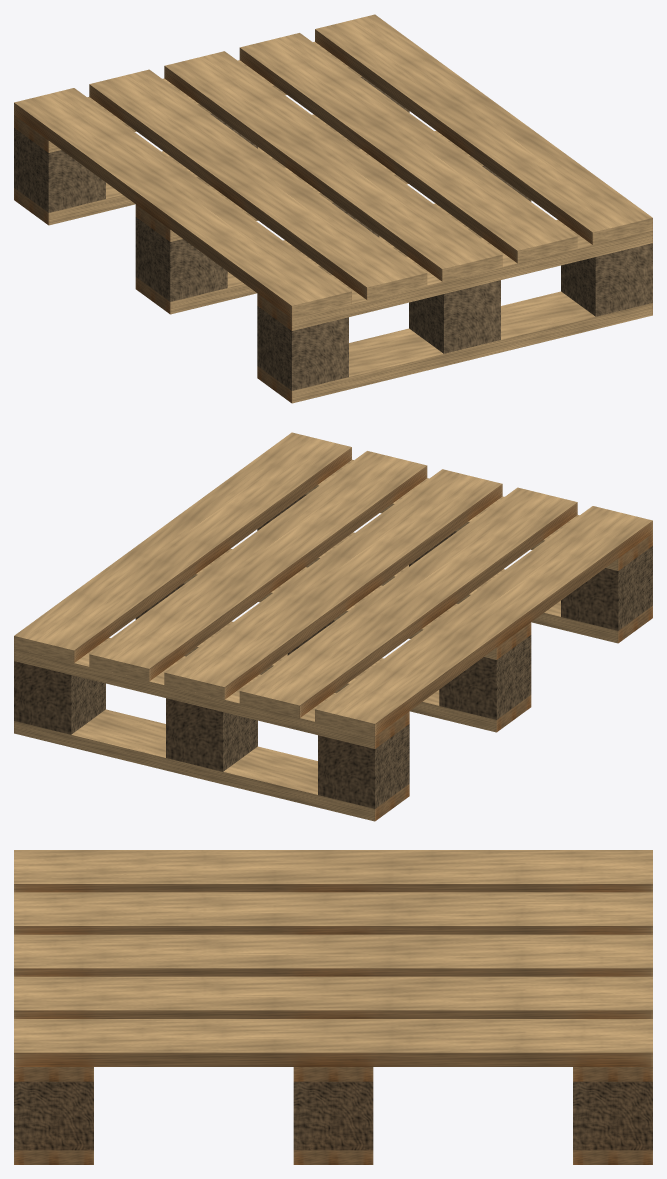
The model's file is Pallet.fbx.
The picture shows the model from 3 angles, top to bottom: view 1: azimuth 30°, elevation 25°; view 2: azimuth 150°, elevation 25°; view 3: azimuth 270°, elevation 25°; orthographic projection. The views are drawn at different scales.
Parts seen in each view (by area): view 1: Palette.00, Palette.03, Palette.02, Palette.01, Palette.04, Palette.19, Palette.07, Palette.16, Palette.14, Palette.15, Palette.13, Palette.10 (+4 smaller); view 2: Palette.00, Palette.03, Palette.02, Palette.01, Palette.04, Palette.17, Palette.05, Palette.10, Palette.08, Palette.09, Palette.13, Palette.16 (+4 smaller); view 3: Palette.04, Palette.01, Palette.00, Palette.02, Palette.03, Palette.11, Palette.14, Palette.08, Palette.06, Palette.18, Palette.07, Palette.05 (+2 smaller).
Boxes of the visible parts, bbox=[...] form: Palette.00: bbox=[164, 51, 502, 281]; Palette.03: bbox=[239, 33, 577, 263]; Palette.02: bbox=[89, 69, 427, 299]; Palette.01: bbox=[14, 88, 351, 318]; Palette.04: bbox=[315, 14, 652, 244]; Palette.19: bbox=[257, 291, 652, 403]; Palette.07: bbox=[257, 220, 652, 330]; Palette.16: bbox=[257, 306, 348, 390]; Palette.14: bbox=[561, 243, 652, 316]; Palette.15: bbox=[409, 280, 500, 353]; Palette.13: bbox=[135, 217, 227, 301]; Palette.10: bbox=[14, 128, 105, 212]; Palette.00: bbox=[164, 469, 502, 699]; Palette.03: bbox=[89, 451, 427, 681]; Palette.02: bbox=[239, 487, 577, 717]; Palette.01: bbox=[315, 506, 652, 736]; Palette.04: bbox=[14, 432, 351, 662]; Palette.17: bbox=[14, 709, 409, 821]; Palette.05: bbox=[14, 638, 409, 748]; Palette.10: bbox=[318, 724, 409, 808]; Palette.08: bbox=[14, 661, 105, 734]; Palette.09: bbox=[166, 698, 257, 771]; Palette.13: bbox=[439, 635, 531, 719]; Palette.16: bbox=[561, 546, 652, 630]; Palette.04: bbox=[14, 1019, 652, 1066]; Palette.01: bbox=[14, 850, 652, 892]; Palette.00: bbox=[14, 934, 652, 976]; Palette.02: bbox=[14, 892, 652, 934]; Palette.03: bbox=[14, 976, 652, 1018]; Palette.11: bbox=[293, 1081, 373, 1150]; Palette.14: bbox=[14, 1081, 93, 1150]; Palette.08: bbox=[573, 1081, 652, 1150]; Palette.06: bbox=[293, 1067, 373, 1081]; Palette.18: bbox=[293, 1150, 373, 1164]; Palette.07: bbox=[14, 1067, 93, 1081]; Palette.05: bbox=[573, 1067, 652, 1081].
Size of the model in its own units: 120 by 31 by 160.
Materials: 2 (2 with a texture image).
